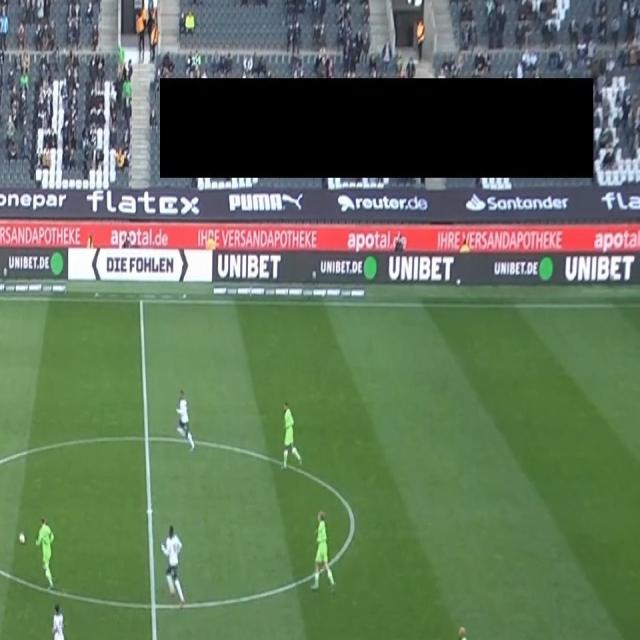ball: (18, 530, 27, 546)
